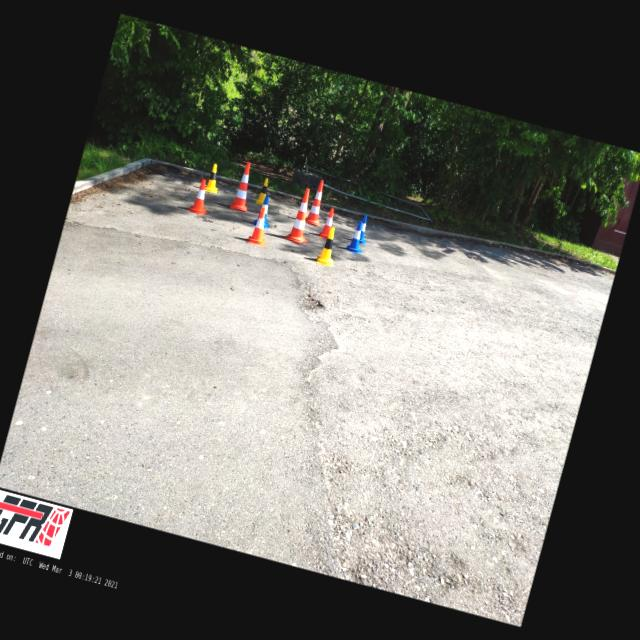blue_cone: (345, 218, 369, 254), (252, 193, 276, 229), (356, 212, 374, 242)
large_orange_cone: (284, 186, 320, 244), (228, 160, 258, 212), (304, 178, 330, 225)
orange_cone: (247, 206, 273, 246), (188, 178, 215, 215), (317, 206, 338, 238)
yellow_cone: (316, 226, 342, 266), (204, 163, 223, 193), (254, 176, 269, 204)
